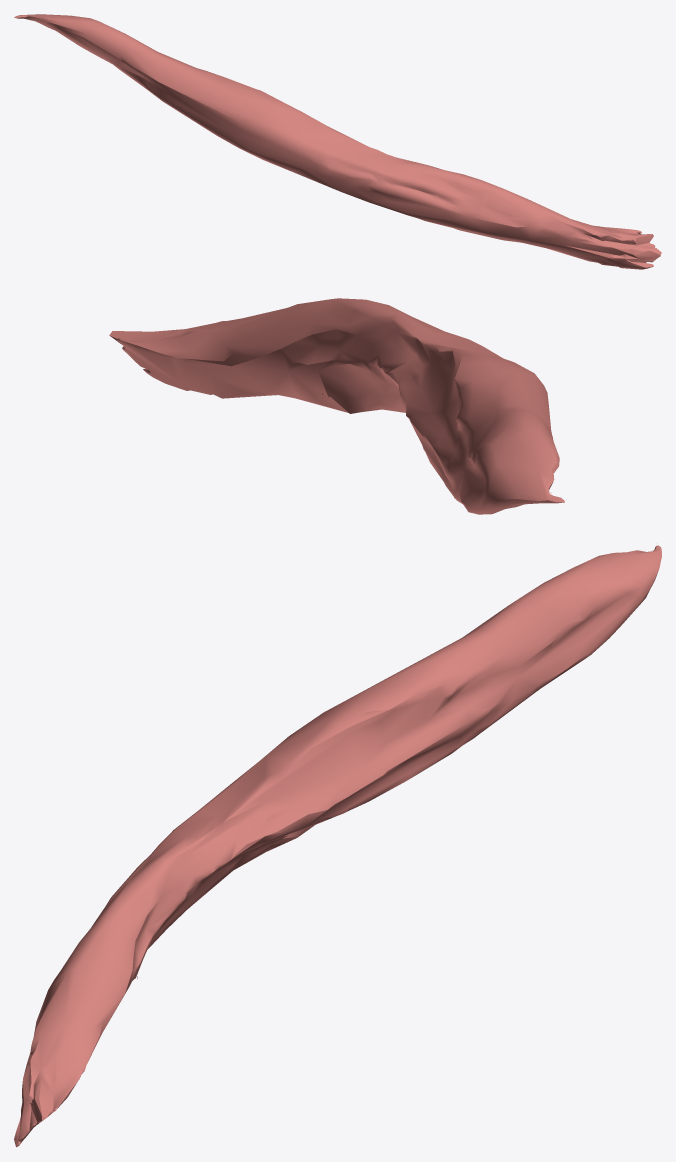
File: fma13412_fj1460.glb
3 renders of one model, top to bottom at view 1: azimuth 30°, elevation 25°; view 2: azimuth 150°, elevation 25°; view 3: azimuth 270°, elevation 25°, orthographic. The views are drawn at different scales.
Visible parts, largest first — view 1: FMA13412_FJ1460; view 2: FMA13412_FJ1460; view 3: FMA13412_FJ1460.
Part boxes in pixels (left/top/right/bottom): FMA13412_FJ1460: left=14, top=14, right=661, bottom=269; FMA13412_FJ1460: left=109, top=298, right=564, bottom=514; FMA13412_FJ1460: left=14, top=545, right=661, bottom=1147.
Size of the model in its own units: 0.0704 by 0.0314 by 0.0608.
